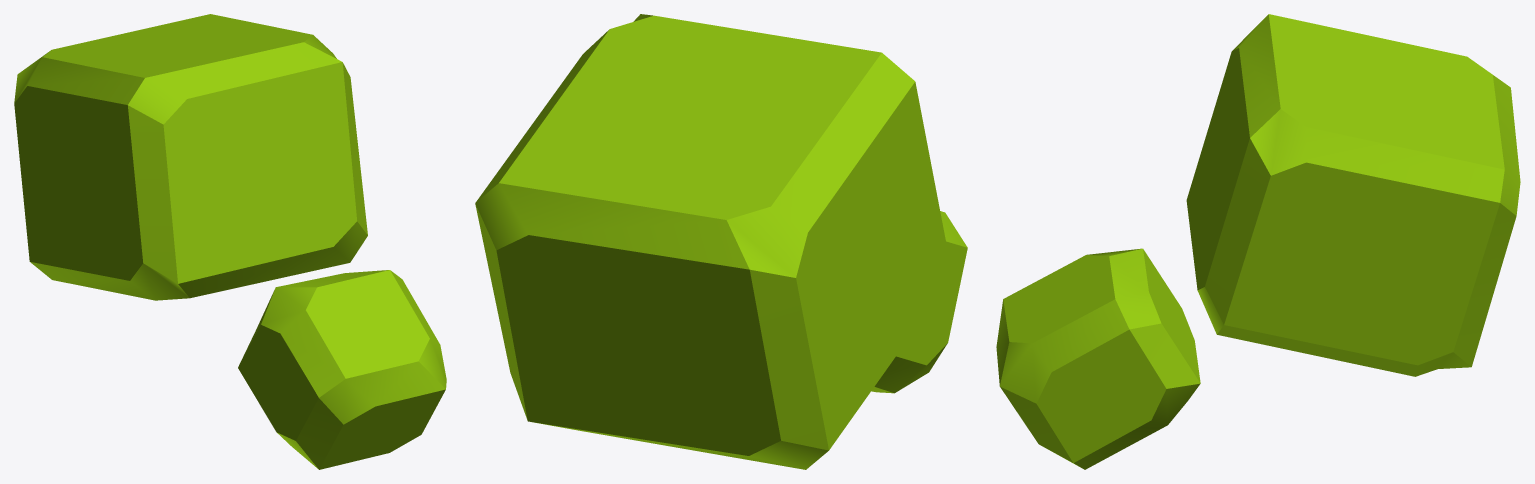
The model's file is tree_big_boxy_bevel_1.fbx.
3 views of the same model, side by side, from view 1: azimuth 30°, elevation 25°; view 2: azimuth 150°, elevation 25°; view 3: azimuth 270°, elevation 25° (orthographic). The views are drawn at different scales.
Visible parts, largest first — view 1: tree_big_boxy_bevel_1; view 2: tree_big_boxy_bevel_1; view 3: tree_big_boxy_bevel_1.
Boxes of the visible parts, x1,y1,x2,y2 form: tree_big_boxy_bevel_1: [14, 14, 446, 469]; tree_big_boxy_bevel_1: [475, 14, 967, 469]; tree_big_boxy_bevel_1: [996, 14, 1520, 469].
Size of the model in its own units: 100 by 135 by 174.
